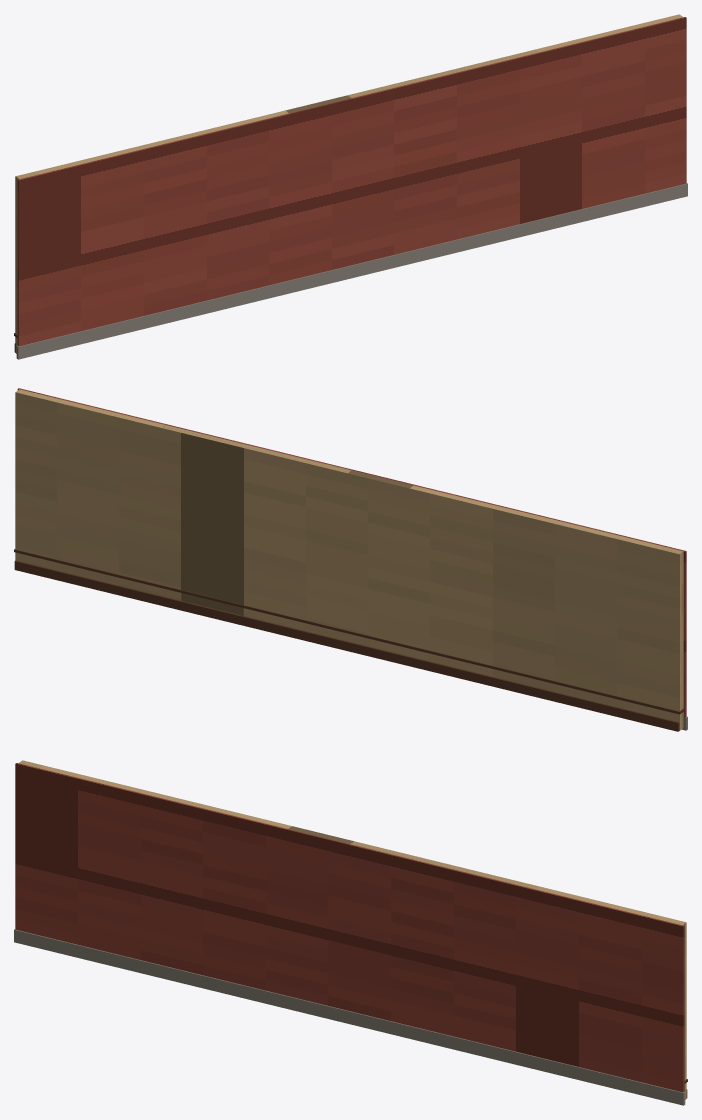
File: back.glb
3 renders of one model, top to bottom at view 1: azimuth 30°, elevation 25°; view 2: azimuth 150°, elevation 25°; view 3: azimuth 330°, elevation 25°, orthographic.
Visible parts, largest first — view 1: Box3, Box4, Box1; view 2: Box1, Box2, Box5, Box6, Box3; view 3: Box3, Box4, Box1.
Part boxes in pixels (bbox=[...]): Box3: bbox=[17, 17, 686, 346]; Box4: bbox=[16, 183, 687, 359]; Box1: bbox=[15, 14, 682, 353]; Box1: bbox=[15, 389, 683, 730]; Box2: bbox=[14, 560, 679, 731]; Box5: bbox=[16, 552, 683, 729]; Box6: bbox=[14, 549, 684, 714]; Box3: bbox=[17, 388, 686, 717]; Box3: bbox=[15, 763, 684, 1092]; Box4: bbox=[14, 929, 685, 1105]; Box1: bbox=[19, 760, 686, 1099].
Size of the model in its own units: 14.27 by 3.64 by 0.25.
4 materials, 2 textured.
